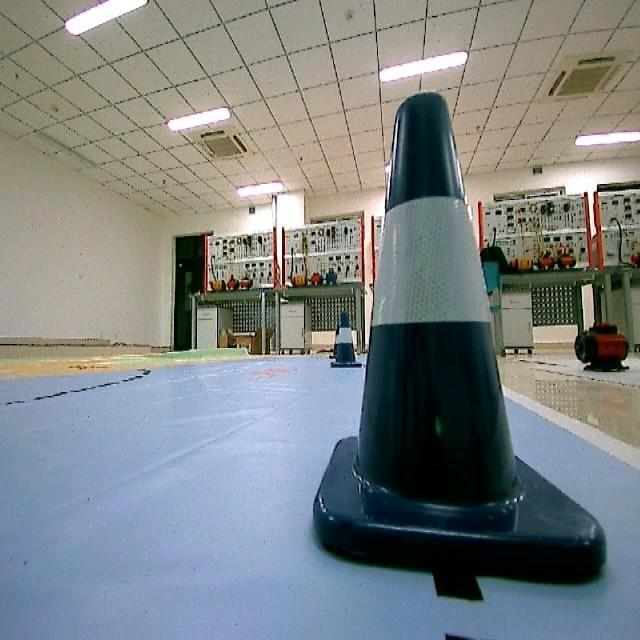obstacle: (298, 94, 614, 588), (327, 311, 365, 376)
